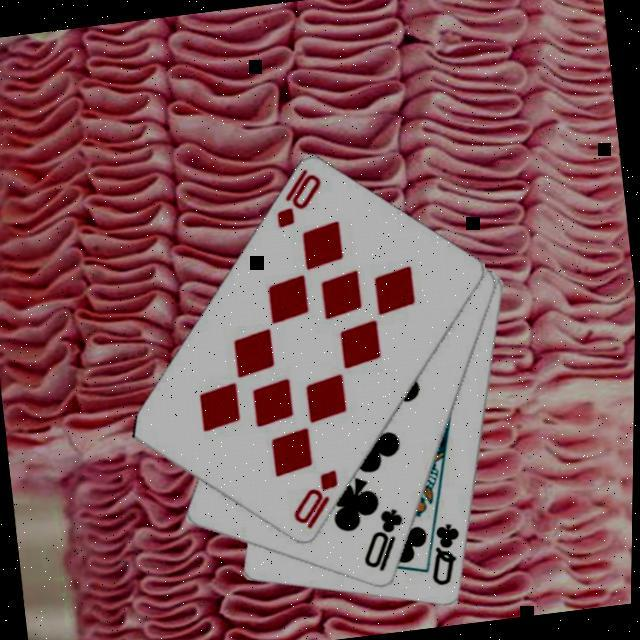10C: (358, 505, 416, 578)
10D: (288, 468, 350, 536), (270, 166, 332, 234)
QC: (426, 520, 473, 592)
